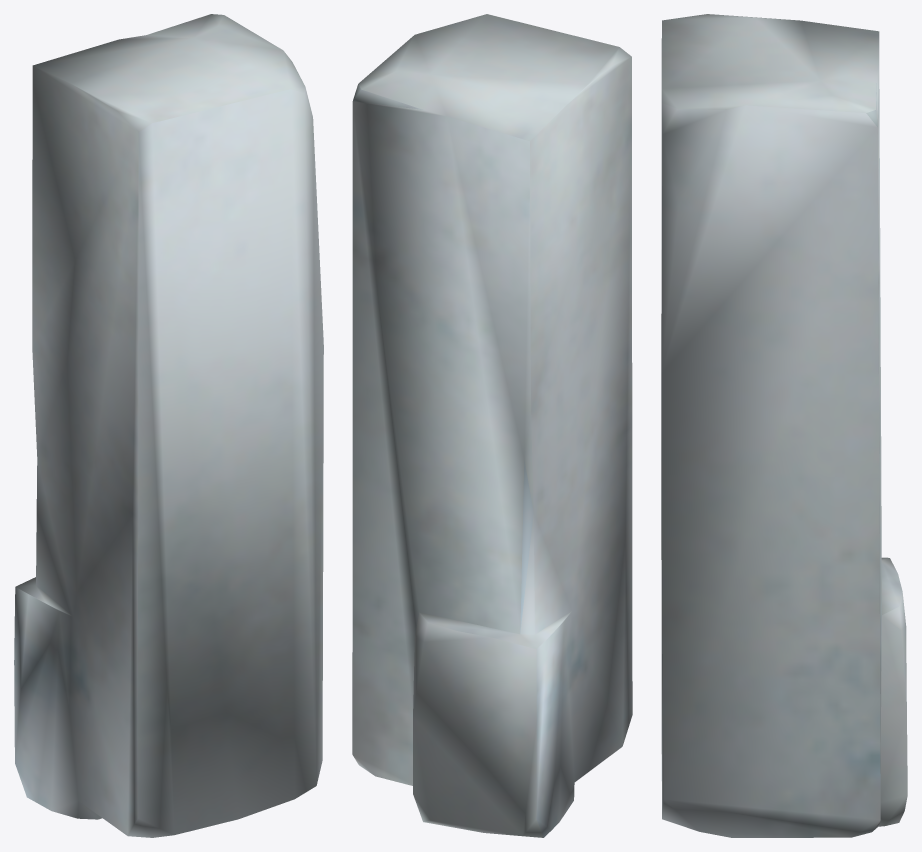
Rendered from P_CubicCliffPiece14.obj.
The picture shows the model from 3 angles, left to right: view 1: azimuth 30°, elevation 25°; view 2: azimuth 150°, elevation 25°; view 3: azimuth 270°, elevation 25°; orthographic projection. The views are drawn at different scales.
Size of the model in its own units: 13.34 by 47.87 by 14.09.
